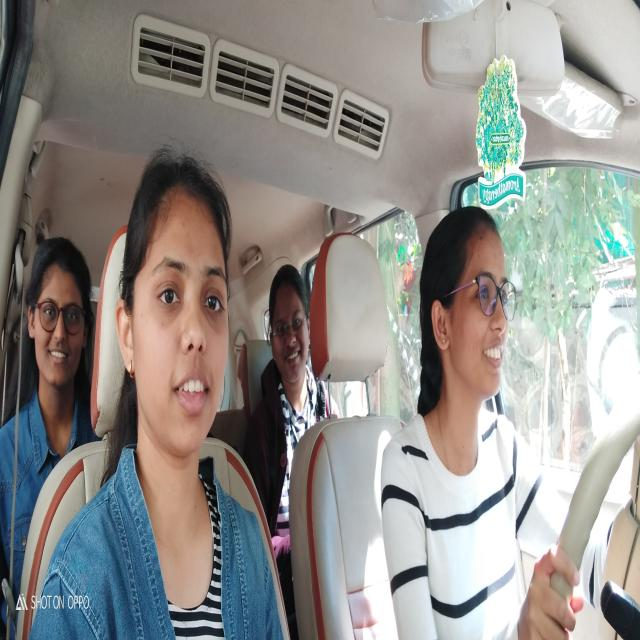person: (118, 137, 230, 469), (426, 181, 516, 422), (25, 234, 92, 416), (260, 262, 315, 400)
